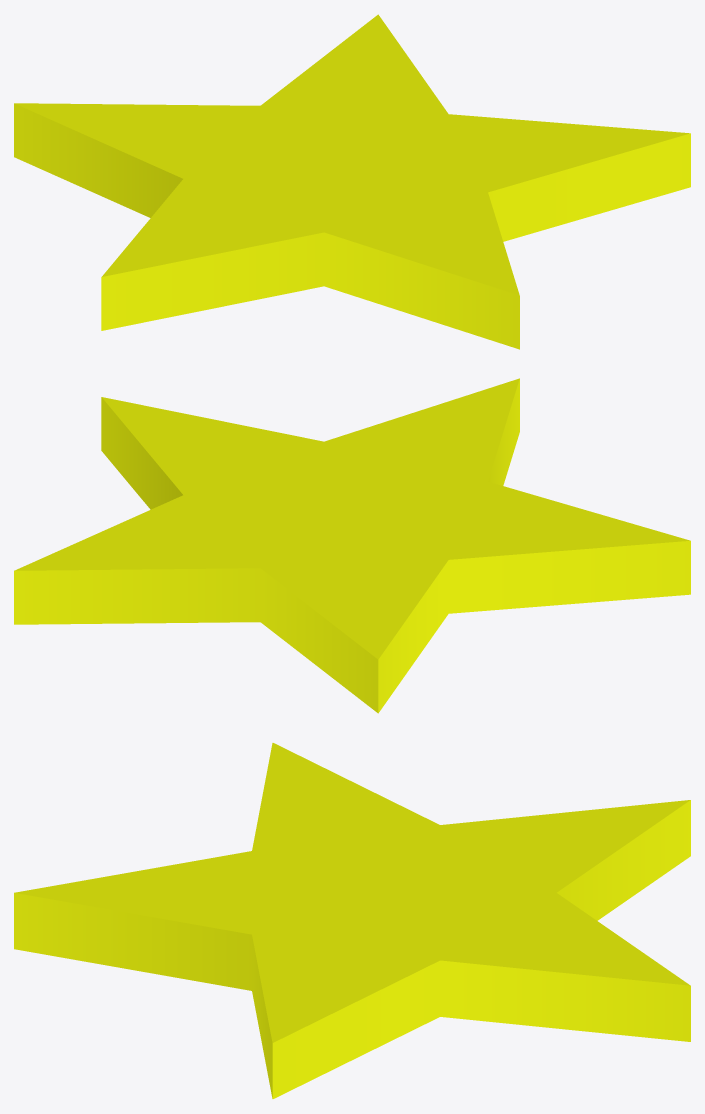
The model's file is star.glb.
3 renders of one model, top to bottom at view 1: azimuth 30°, elevation 25°; view 2: azimuth 150°, elevation 25°; view 3: azimuth 270°, elevation 25°, orthographic. The views are drawn at different scales.
Visible parts, largest first — view 1: Circle; view 2: Circle; view 3: Circle.
Boxes of the visible parts, bbox=[...] form: Circle: bbox=[14, 14, 690, 349]; Circle: bbox=[14, 378, 690, 713]; Circle: bbox=[14, 743, 690, 1098].
Bounding box in the file's own units: 1.9 × 0.1662 × 1.81.
